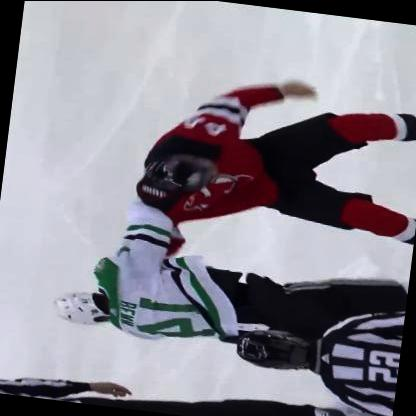voilence: (113, 62, 385, 306), (47, 150, 352, 361)
